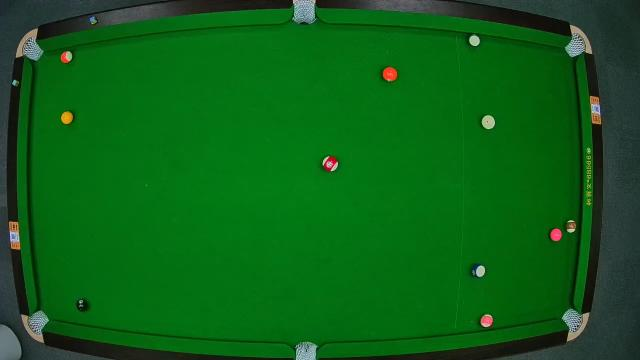bag1: (22, 38, 44, 62)
bag2: (293, 1, 315, 23)
bag3: (566, 34, 586, 57)
bag4: (29, 308, 49, 334)
bag5: (294, 342, 320, 360)
bag6: (562, 310, 582, 332)
ball0: (480, 114, 496, 131)
ball1: (60, 110, 76, 126)
ball10: (471, 264, 487, 280)
ball11: (320, 156, 338, 174)
ball12: (481, 313, 494, 329)
ball13: (60, 50, 74, 63)
ball14: (466, 33, 482, 49)
ball15: (566, 218, 578, 234)
ball4: (548, 226, 564, 242)
ball5: (382, 66, 398, 84)
ball8: (76, 298, 88, 312)
